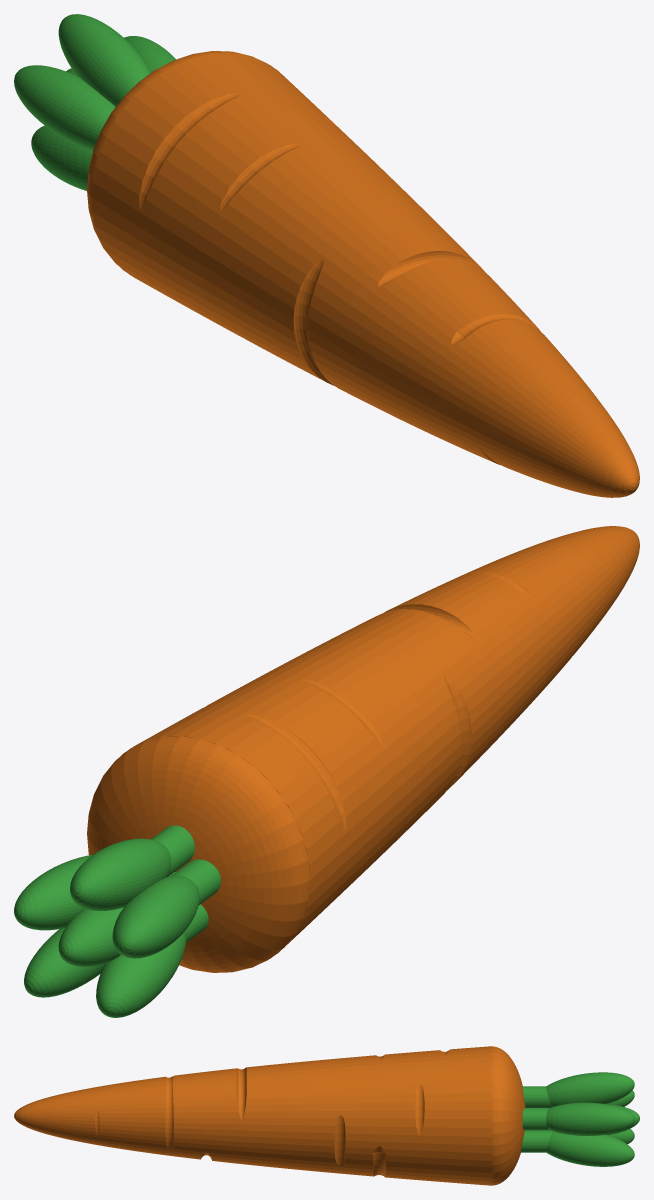
Rendered from carrot.glb.
3 views of the same model, one above another, from view 1: azimuth 30°, elevation 25°; view 2: azimuth 150°, elevation 25°; view 3: azimuth 270°, elevation 25° (orthographic). The views are drawn at different scales.
Visible parts, largest first — view 1: Mesh_Mesh_head_geo001_lambert2SG001; view 2: Mesh_Mesh_head_geo001_lambert2SG001; view 3: Mesh_Mesh_head_geo001_lambert2SG001.
Part boxes in pixels (<box>): Mesh_Mesh_head_geo001_lambert2SG001: <box>14,14,639,497</box>; Mesh_Mesh_head_geo001_lambert2SG001: <box>14,526,639,1017</box>; Mesh_Mesh_head_geo001_lambert2SG001: <box>14,1046,639,1185</box>.
Bounding box in the file's own units: 27 × 27 × 121.
